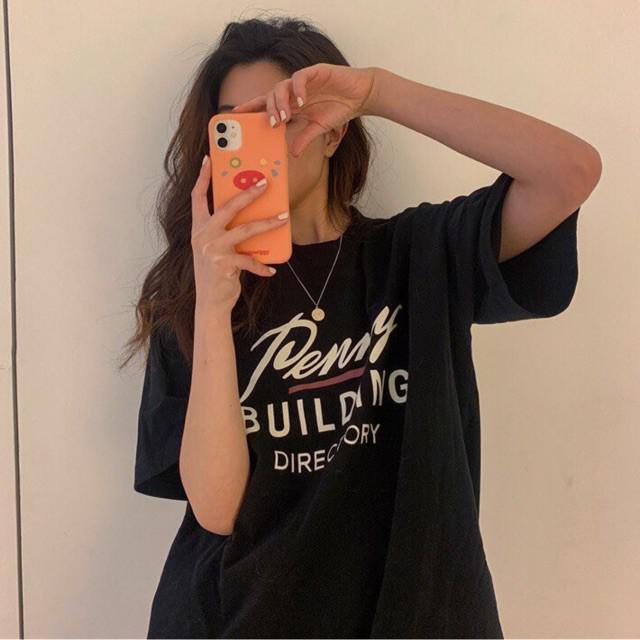Shirt: (126, 174, 585, 639)
